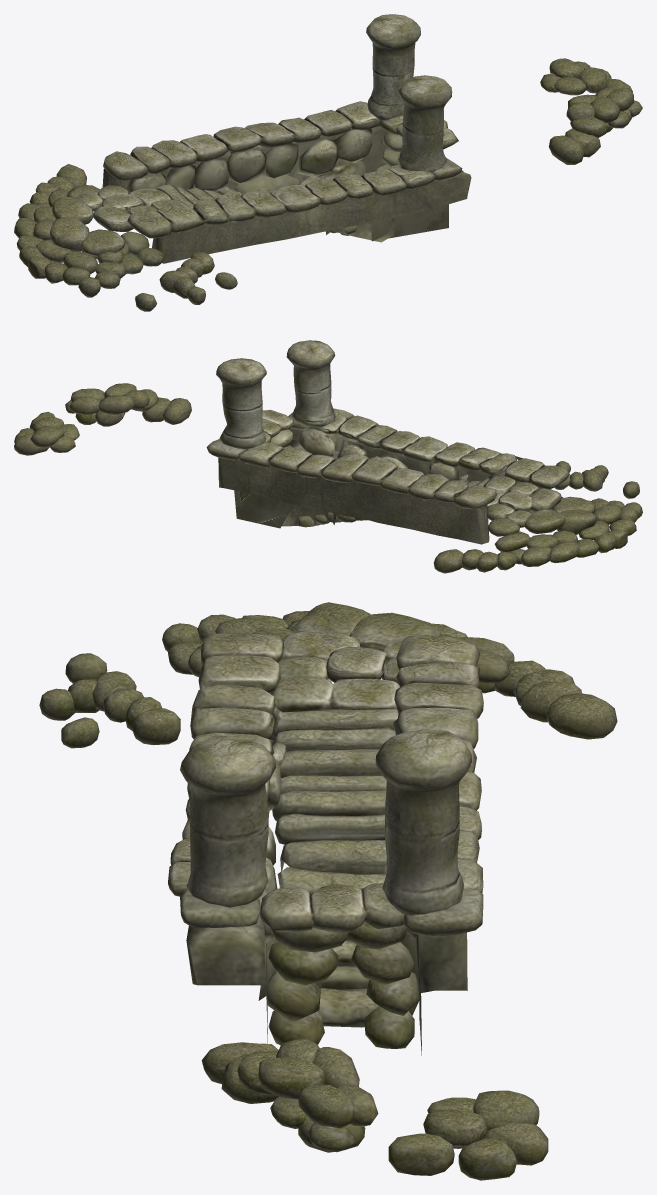
The model's file is site_dungeon.glb.
3 renders of one model, top to bottom at view 1: azimuth 30°, elevation 25°; view 2: azimuth 150°, elevation 25°; view 3: azimuth 270°, elevation 25°, orthographic. The views are drawn at different scales.
Size of the model in its own units: 1 by 0.2734 by 0.4488.
1 material, 1 textured.
